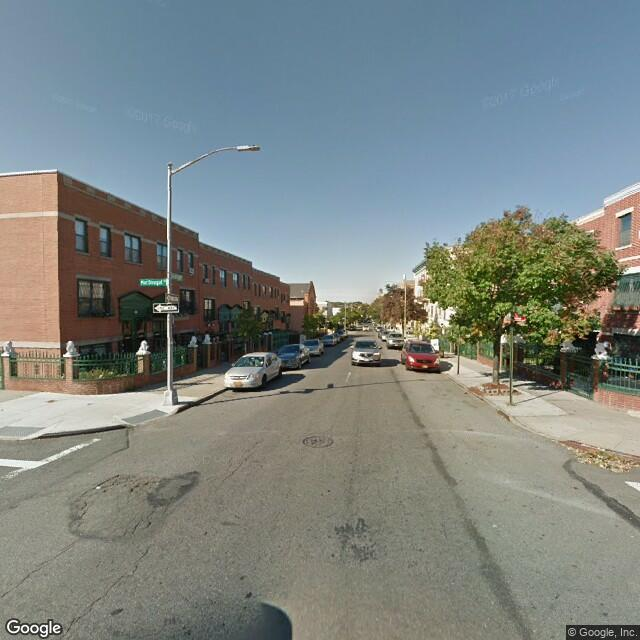litter: (567, 443, 637, 477)
